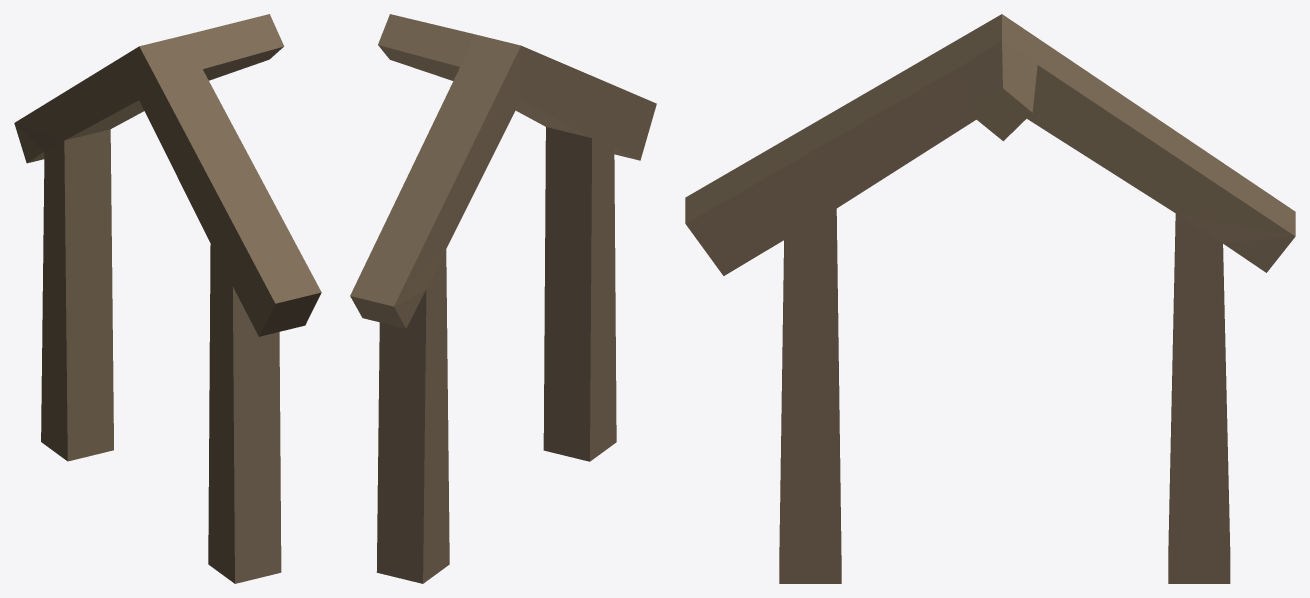
The model's file is MineEntrance06.fbx.
The picture shows the model from 3 angles, left to right: view 1: azimuth 30°, elevation 25°; view 2: azimuth 150°, elevation 25°; view 3: azimuth 270°, elevation 25°; orthographic projection. The views are drawn at different scales.
Visible parts, largest first — view 1: MineEntrance06; view 2: MineEntrance06; view 3: MineEntrance06.
Part boxes in pixels (x1,y1,x2,y2): MineEntrance06: [14, 14, 321, 583]; MineEntrance06: [350, 14, 656, 583]; MineEntrance06: [685, 14, 1295, 583].
Size of the model in its own units: 346 by 340 by 99.57.
